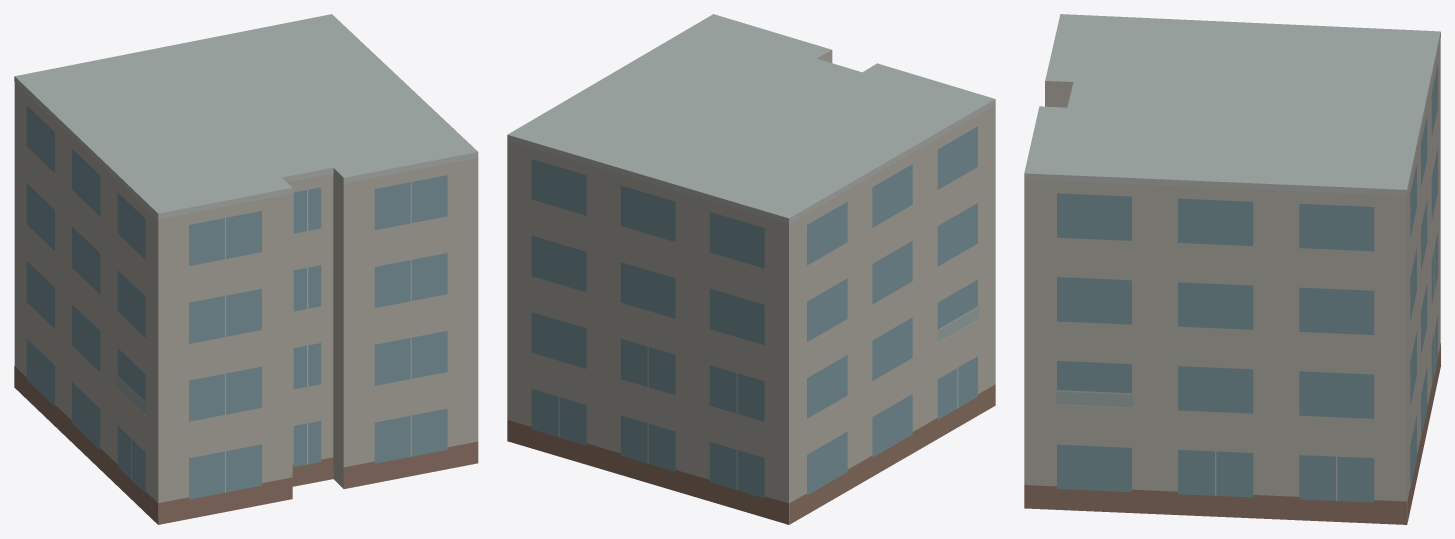
The model's file is survey-upis-32669492.glb.
The picture shows the model from 3 angles, left to right: view 1: azimuth 30°, elevation 25°; view 2: azimuth 150°, elevation 25°; view 3: azimuth 270°, elevation 25°; orthographic projection. The views are drawn at different scales.
Visible parts, largest first — view 1: survey-upis-32669492.tmp; view 2: survey-upis-32669492.tmp; view 3: survey-upis-32669492.tmp.
Part boxes in pixels (<box>): survey-upis-32669492.tmp: <box>14,14,478,524</box>; survey-upis-32669492.tmp: <box>507,14,995,524</box>; survey-upis-32669492.tmp: <box>1024,14,1440,524</box>.
Size of the model in its own units: 14.7 by 13.05 by 14.72.
